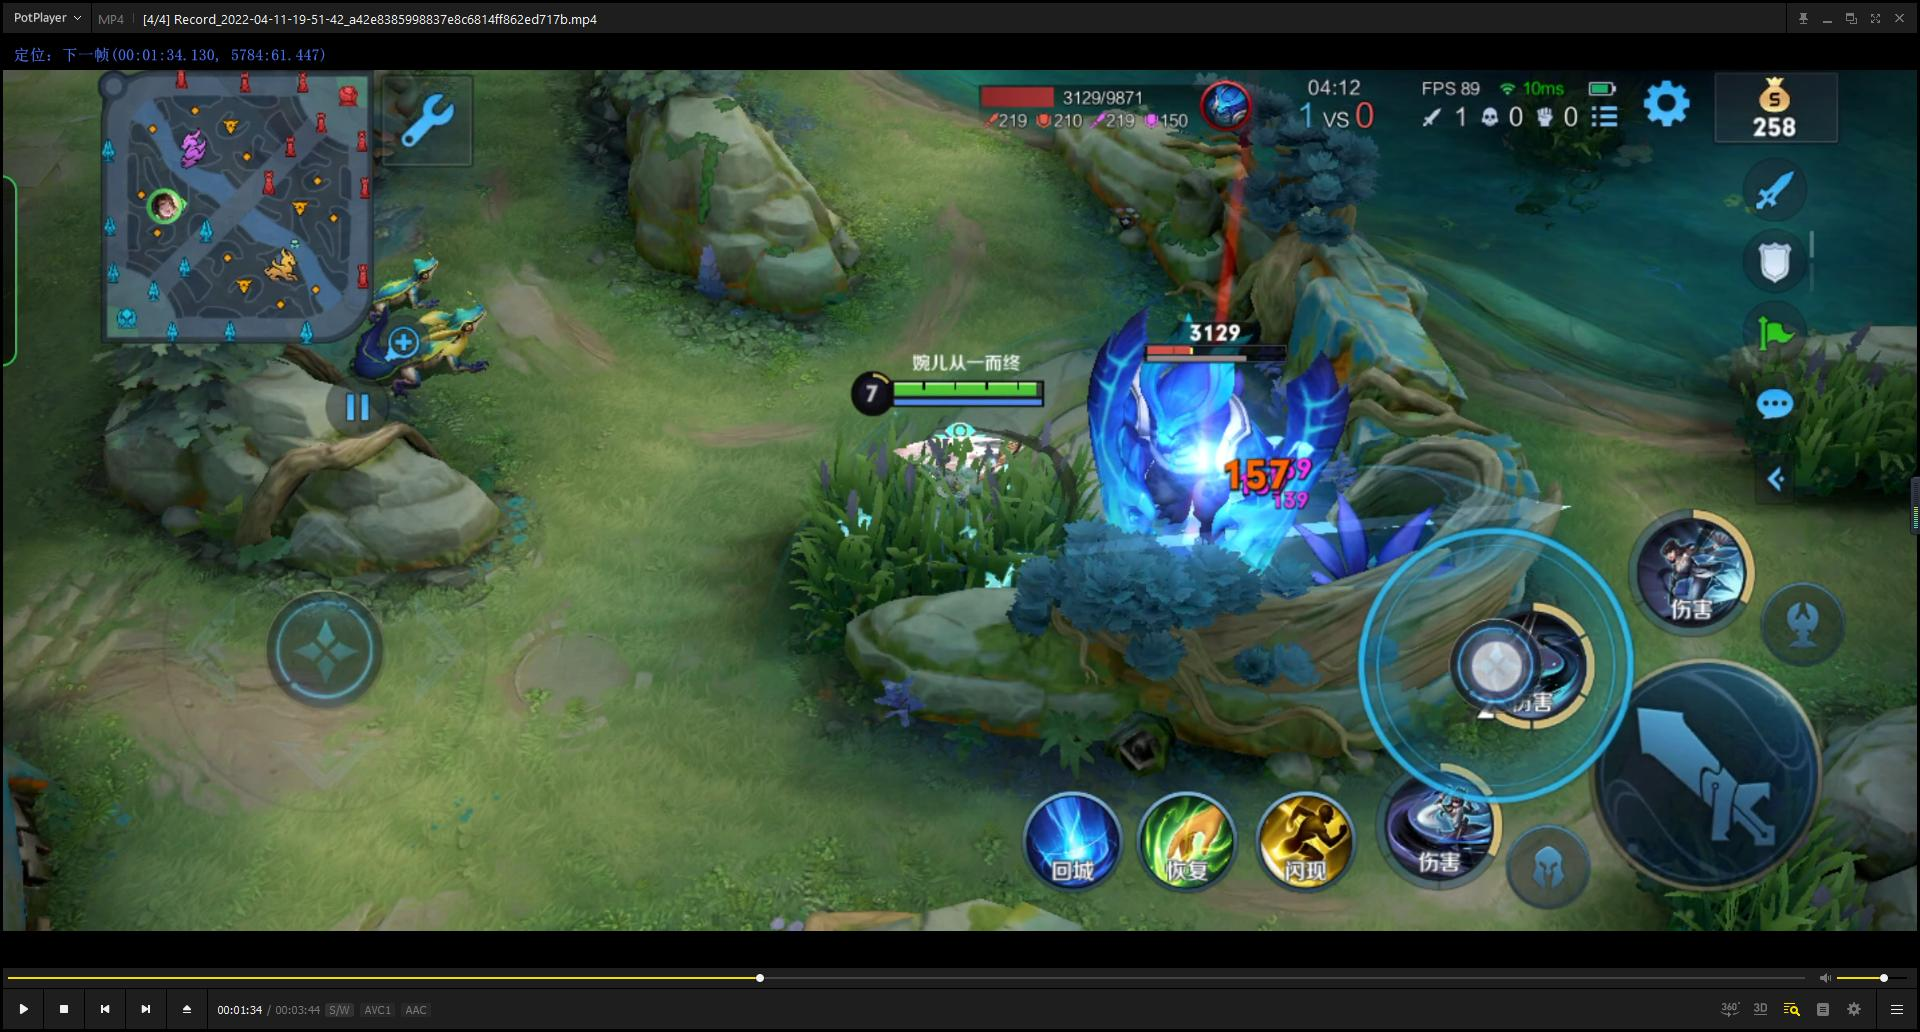Buff: (1050, 305, 1358, 591)
Hero: (855, 432, 1086, 608)
Lizard: (367, 283, 512, 398), (358, 243, 463, 318)
